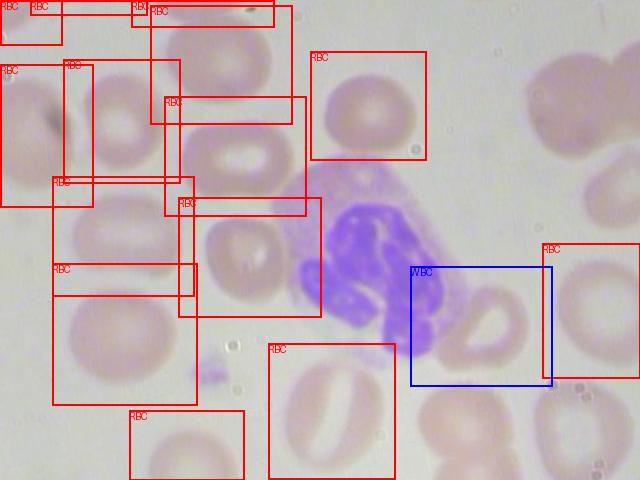RBC: (52, 263, 197, 405), (268, 343, 395, 479), (178, 197, 321, 317), (52, 176, 194, 296), (164, 96, 306, 216), (150, 5, 292, 124), (63, 59, 180, 183), (0, 64, 93, 207), (542, 243, 640, 378), (310, 51, 426, 160), (129, 410, 244, 480), (131, 0, 274, 27), (0, 0, 62, 45), (30, 0, 147, 15)
WBC: (410, 266, 552, 386)
